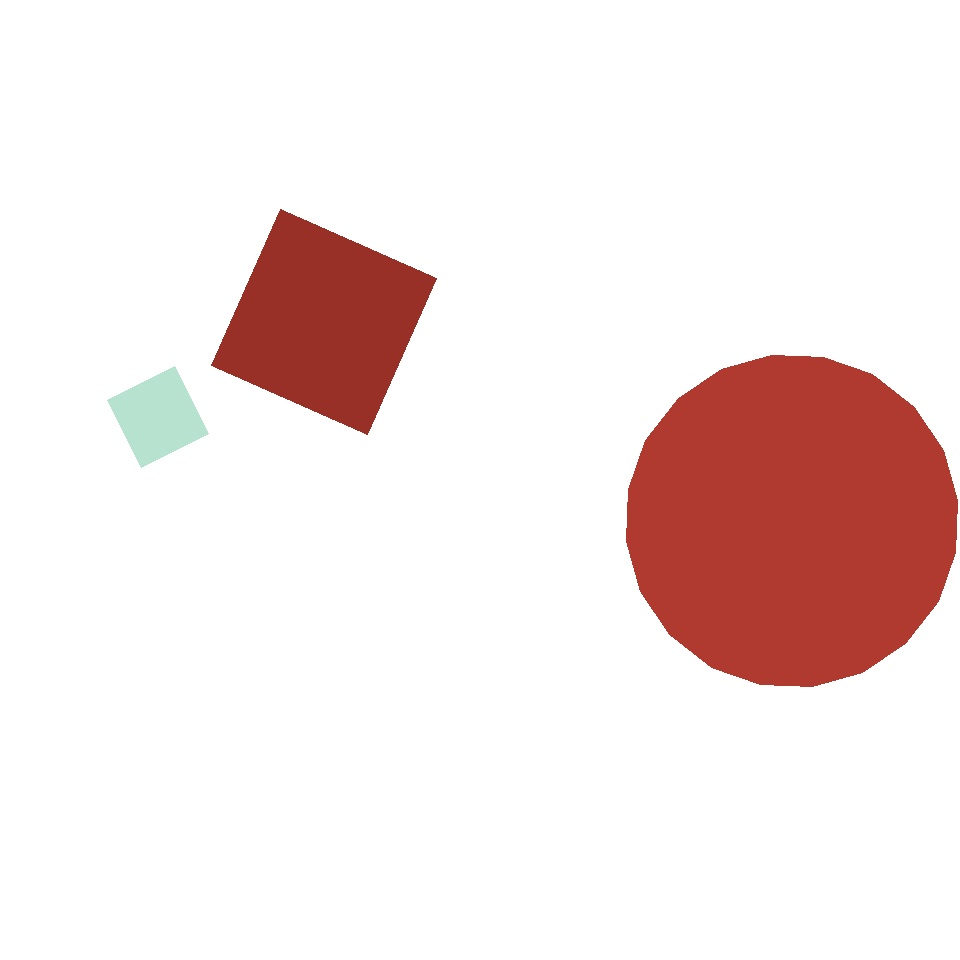circle: (143, 168, 427, 449), (410, 640, 584, 792), (200, 17, 340, 145)
square: (608, 358, 926, 678), (212, 209, 436, 434), (746, 488, 922, 664), (107, 366, 208, 468)
triangle: (570, 512, 930, 872), (626, 356, 957, 686)
